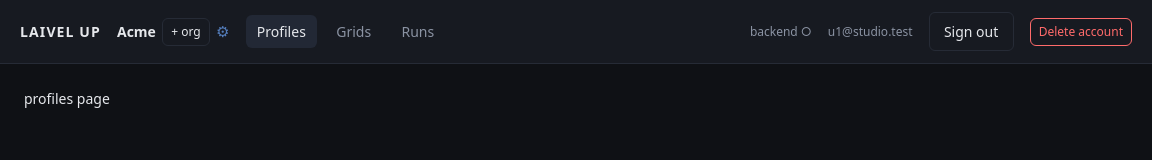
it: Shell — delete account › shows the 409 message instead of navigating away
Click the button "Delete account": (1081, 32) [1030,18,1132,46]
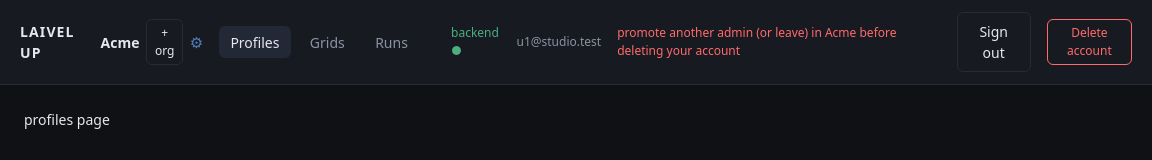
Expected: the text "profiles page" is shown, [24,110,110,129]
Expected: the text "promote another admin" is shown, [617,24,896,59]
